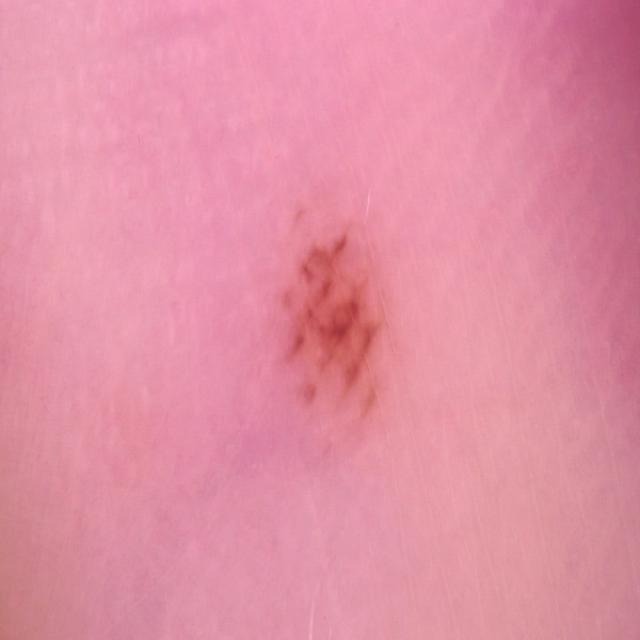NV: (278, 198, 386, 434)
